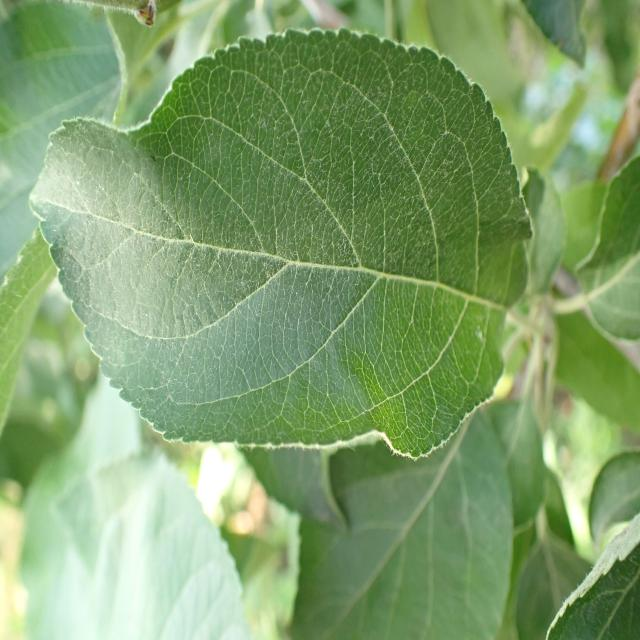healthy: (29, 26, 534, 460), (289, 402, 513, 640), (573, 153, 640, 340), (544, 511, 640, 640)
